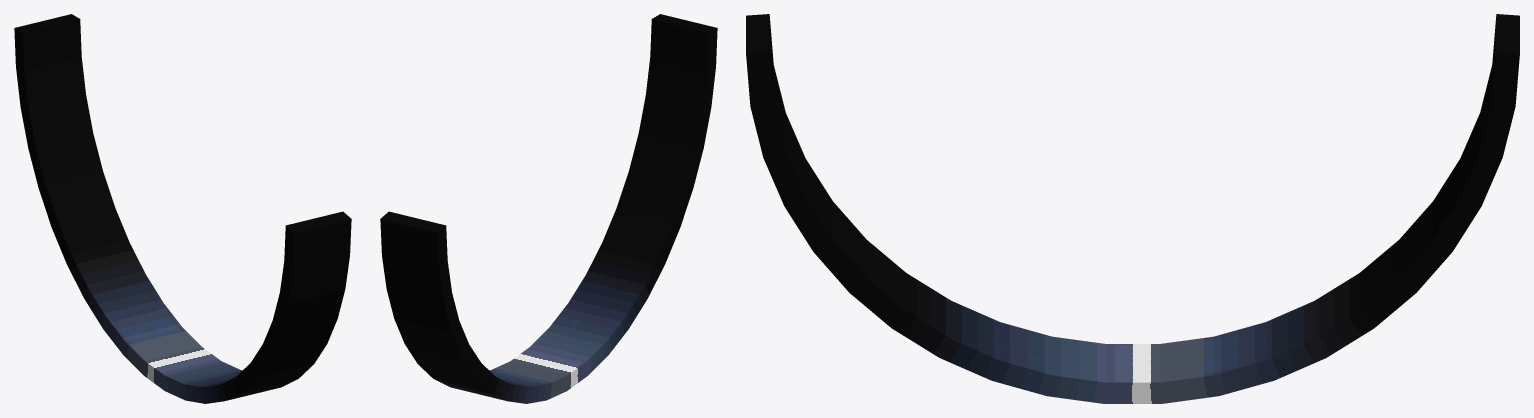
The model's file is 0312_huan.glb.
3 renders of one model, left to right at view 1: azimuth 30°, elevation 25°; view 2: azimuth 150°, elevation 25°; view 3: azimuth 270°, elevation 25°, orthographic. The views are drawn at different scales.
Bounding box in the file's own units: 0.2603 × 1.1 × 2.2.
1 material, 1 textured.
